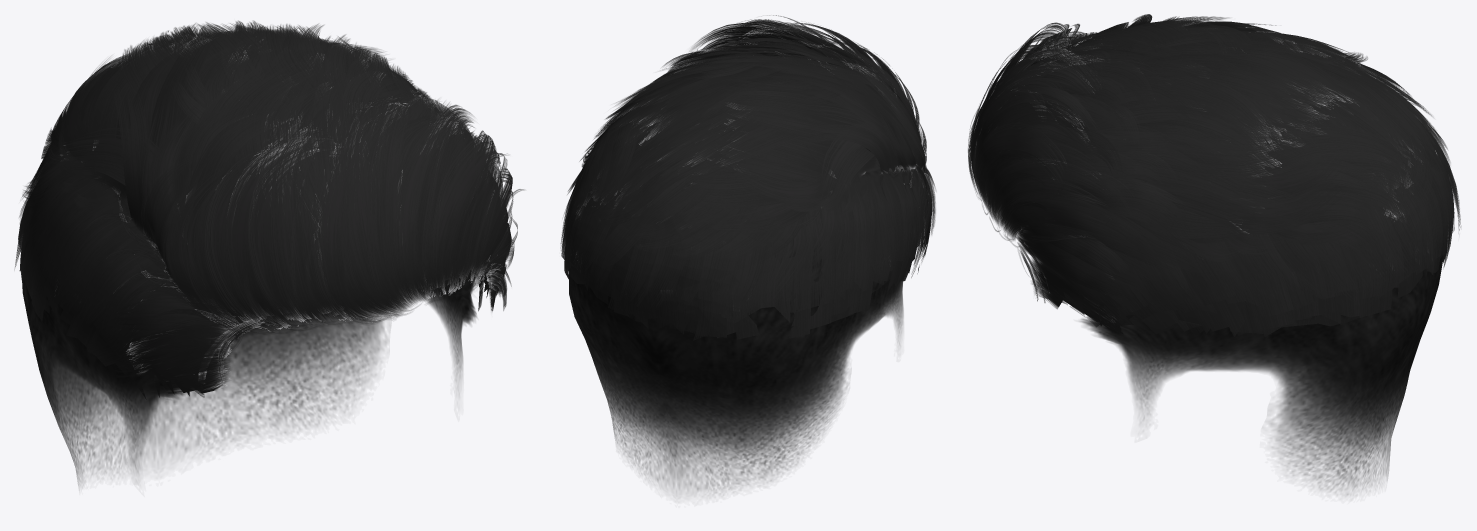
Rendered from Quiff.glb.
3 renders of one model, left to right at view 1: azimuth 30°, elevation 25°; view 2: azimuth 150°, elevation 25°; view 3: azimuth 270°, elevation 25°, orthographic. The views are drawn at different scales.
Visible parts, largest first — view 1: Cazy_Hair_S3_c200c_m, Scalp; view 2: Cazy_Hair_S3_c200c_m, Scalp; view 3: Cazy_Hair_S3_c200c_m, Scalp.
Part boxes in pixels (bbox=[...]): Cazy_Hair_S3_c200c_m: bbox=[14, 20, 523, 399]; Scalp: bbox=[22, 186, 480, 485]; Cazy_Hair_S3_c200c_m: bbox=[560, 15, 935, 340]; Scalp: bbox=[569, 163, 903, 493]; Cazy_Hair_S3_c200c_m: bbox=[968, 14, 1460, 336]; Scalp: bbox=[1023, 230, 1443, 495].
Bounding box in the file's own units: 0.2033 × 0.2512 × 0.2412.
2 materials, 2 textured.
